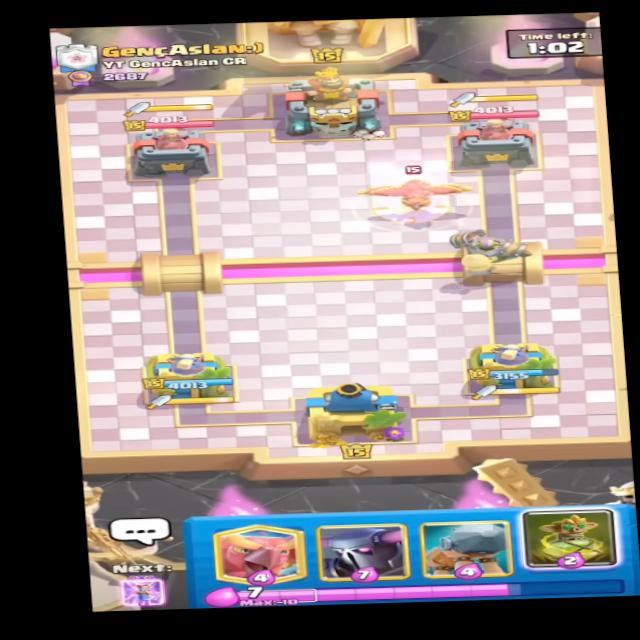phoenix: (355, 161, 483, 215)
